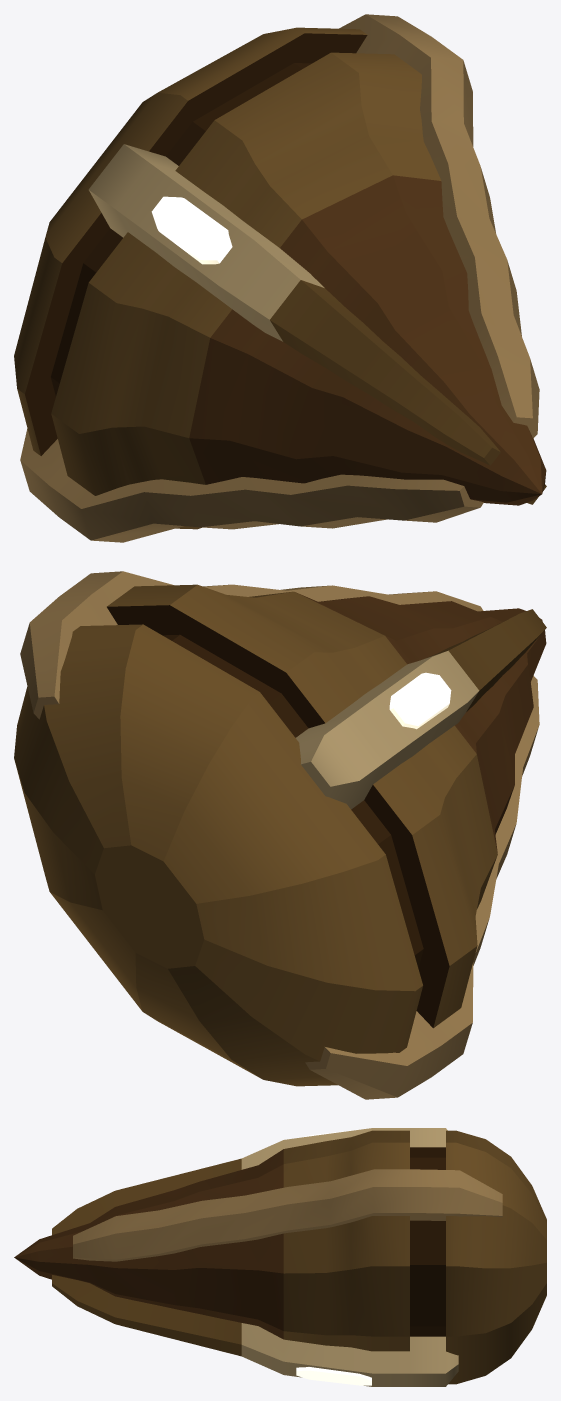
Rendered from newsh2-171-f6.glb.
The picture shows the model from 3 angles, top to bottom: view 1: azimuth 30°, elevation 25°; view 2: azimuth 150°, elevation 25°; view 3: azimuth 270°, elevation 25°; orthographic projection. The views are drawn at different scales.
Parts seen in each view (by area): view 1: newsh2-171-f6; view 2: newsh2-171-f6; view 3: newsh2-171-f6.
Boxes of the visible parts, x1=… form: newsh2-171-f6: x1=14, y1=14, x2=546, y2=542; newsh2-171-f6: x1=14, y1=571, x2=546, y2=1099; newsh2-171-f6: x1=14, y1=1128, x2=546, y2=1386.
Size of the model in its own units: 0.6175 by 0.6175 by 1.05.
